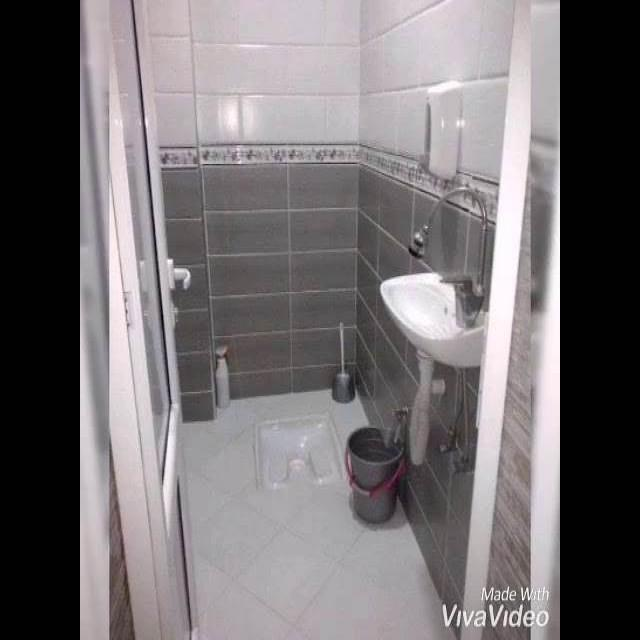Handle: (156, 249, 199, 311)
door: (101, 38, 206, 619)
tap: (408, 192, 484, 265)
toilet: (253, 391, 349, 505)
wash basin: (380, 261, 491, 395)
